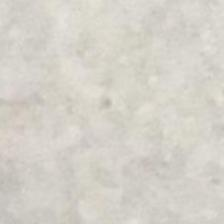Non_Crack: (41, 1, 215, 183)
